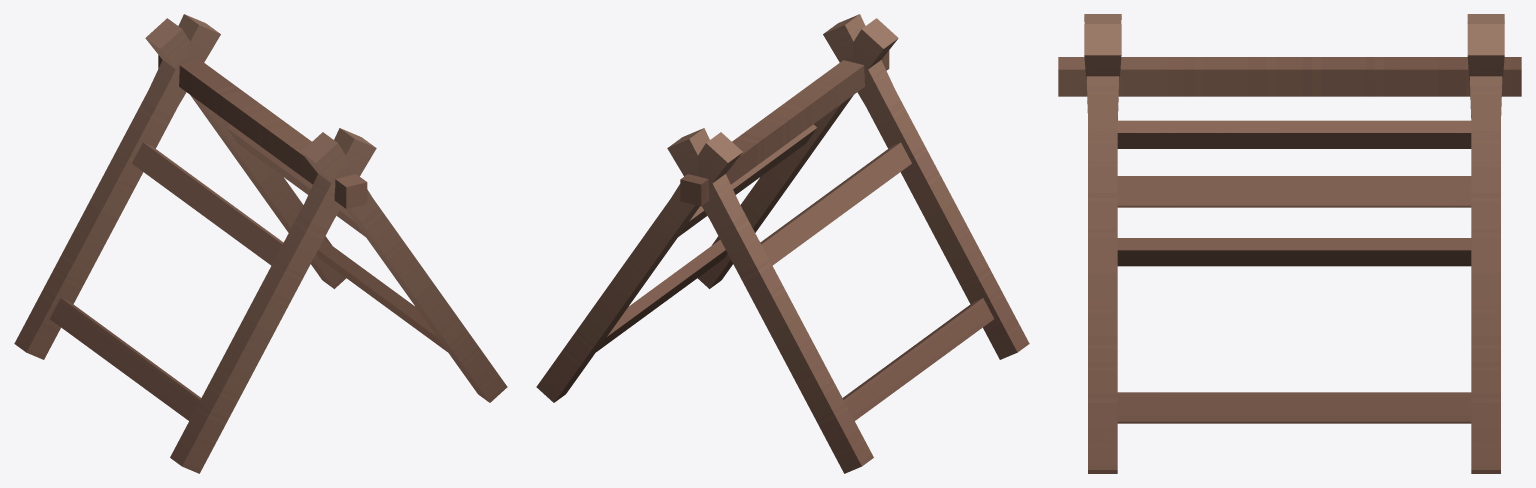
The model's file is tent_small.glb.
3 views of the same model, side by side, from view 1: azimuth 30°, elevation 25°; view 2: azimuth 150°, elevation 25°; view 3: azimuth 270°, elevation 25° (orthographic). The views are drawn at different scales.
Parts seen in each view (by area): view 1: tent; view 2: tent; view 3: tent.
Boxes of the visible parts, x1,y1,x2,y2 form: tent: [14, 14, 507, 473]; tent: [536, 14, 1029, 473]; tent: [1058, 14, 1521, 473].
Bounding box in the file's own units: 1.49 × 1.3 × 1.49.
1 material, 1 textured.
